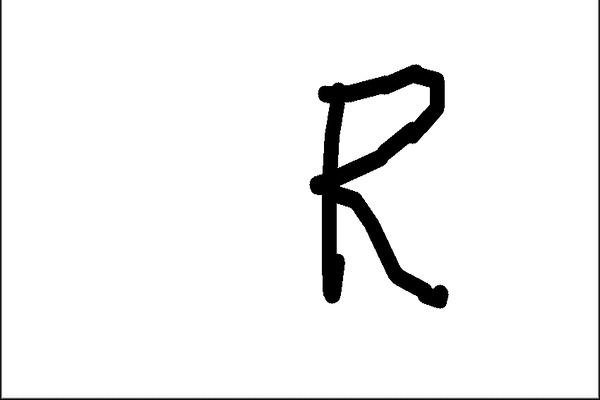R: (298, 59, 469, 324)
